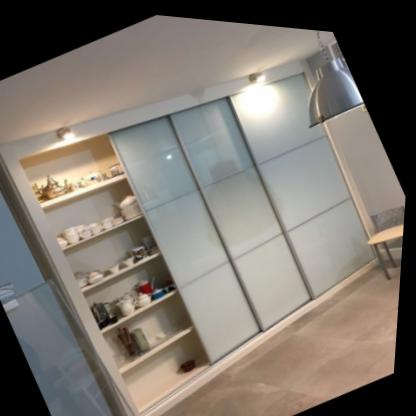Cupboard: (0, 53, 376, 416)
